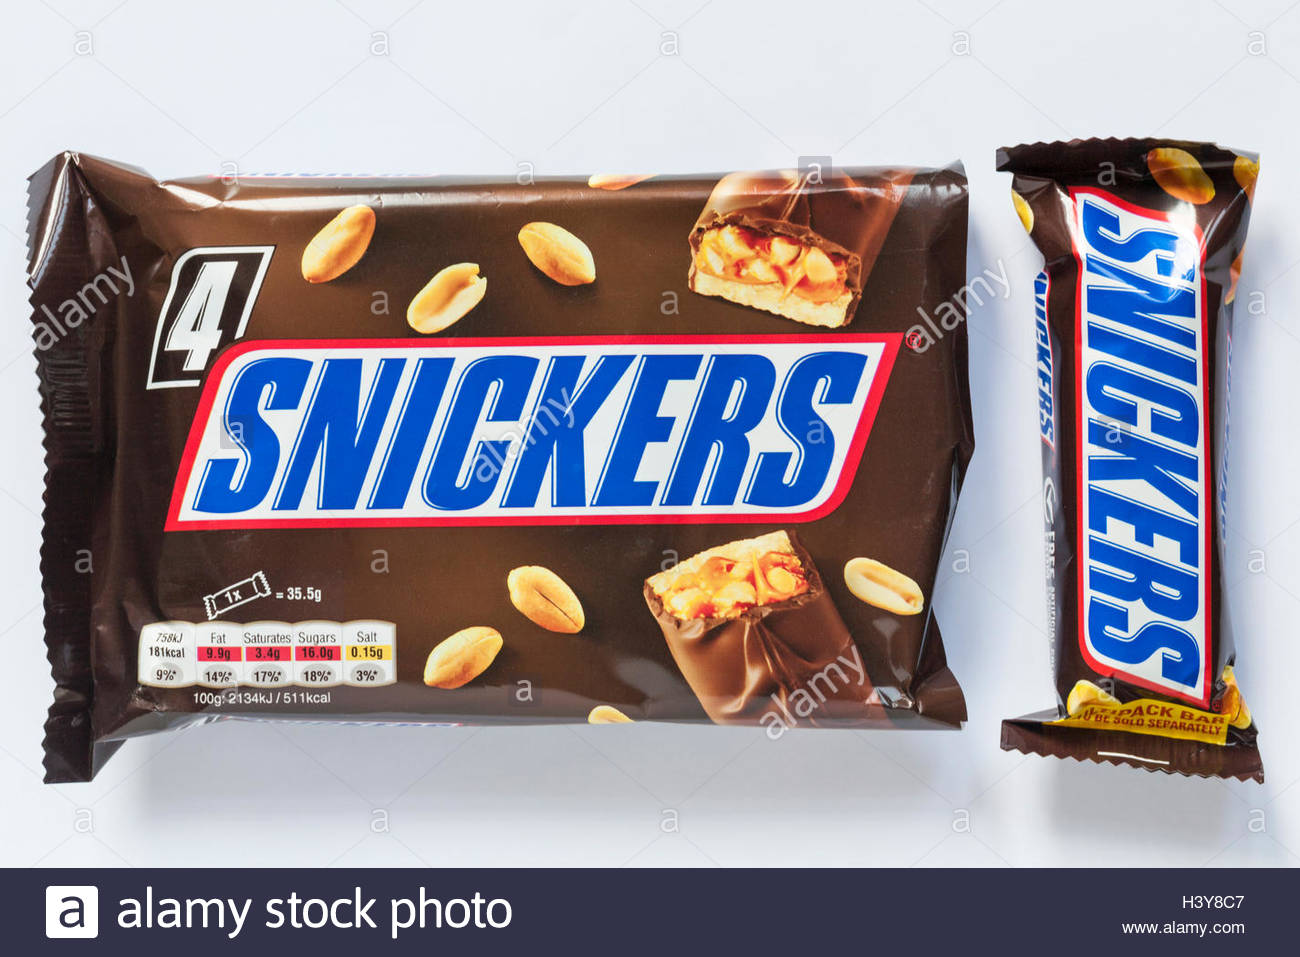snickers: (182, 346, 869, 510), (1077, 200, 1201, 685)
